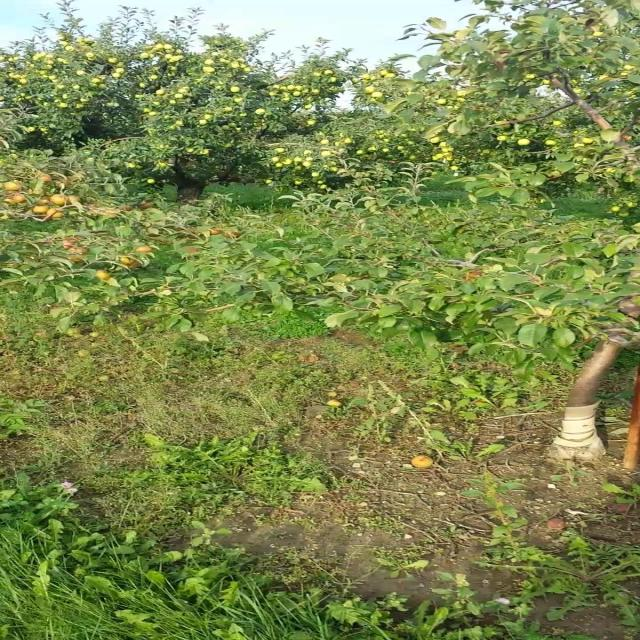apple: (464, 269, 484, 281), (122, 258, 142, 269), (49, 194, 67, 206), (2, 181, 22, 191), (47, 208, 64, 219), (118, 256, 136, 266), (31, 205, 49, 214), (71, 246, 89, 255), (138, 200, 156, 209), (100, 209, 118, 217), (136, 245, 153, 253), (67, 255, 84, 263), (96, 270, 109, 280), (11, 194, 27, 202), (62, 240, 76, 249), (38, 174, 53, 182), (67, 195, 80, 203), (209, 229, 222, 235), (187, 248, 198, 254)
